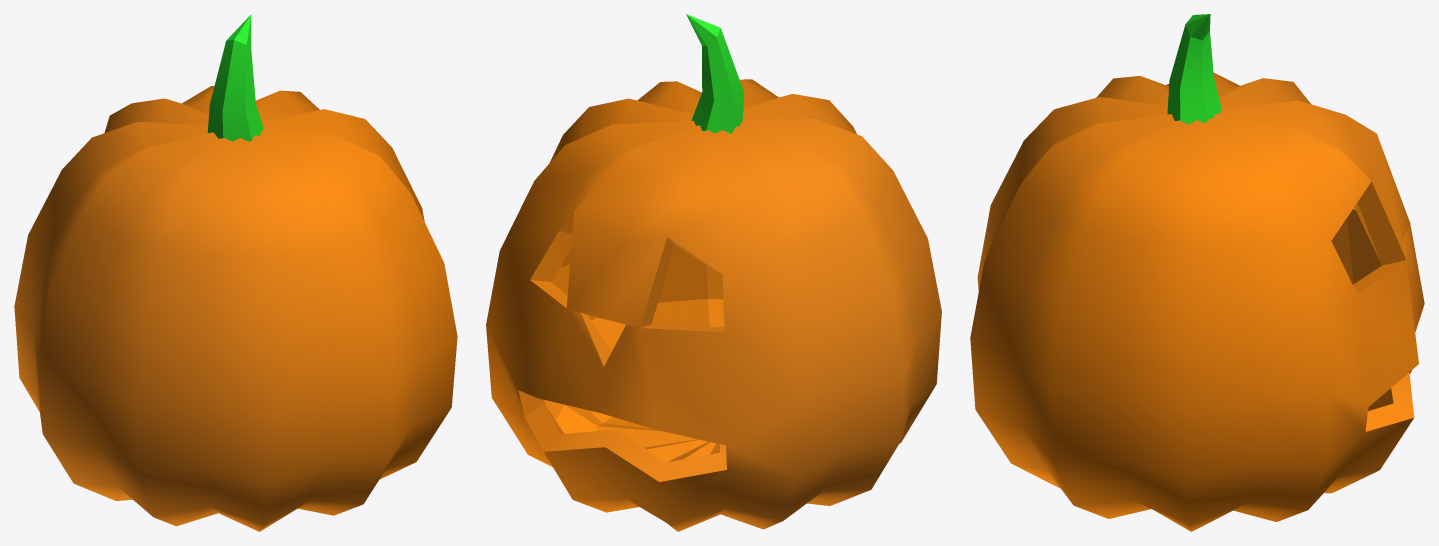
The model's file is Abobora_02_Base.fbx.
The picture shows the model from 3 angles, left to right: view 1: azimuth 30°, elevation 25°; view 2: azimuth 150°, elevation 25°; view 3: azimuth 270°, elevation 25°; orthographic projection. The views are drawn at different scales.
Visible parts, largest first — view 1: Abobora_02; view 2: Abobora_02; view 3: Abobora_02.
Part boxes in pixels (x1,y1,x2,y2): Abobora_02: (14, 14, 457, 531); Abobora_02: (486, 14, 941, 531); Abobora_02: (970, 14, 1424, 531).
Size of the model in its own units: 24.68 by 27.55 by 24.17.
